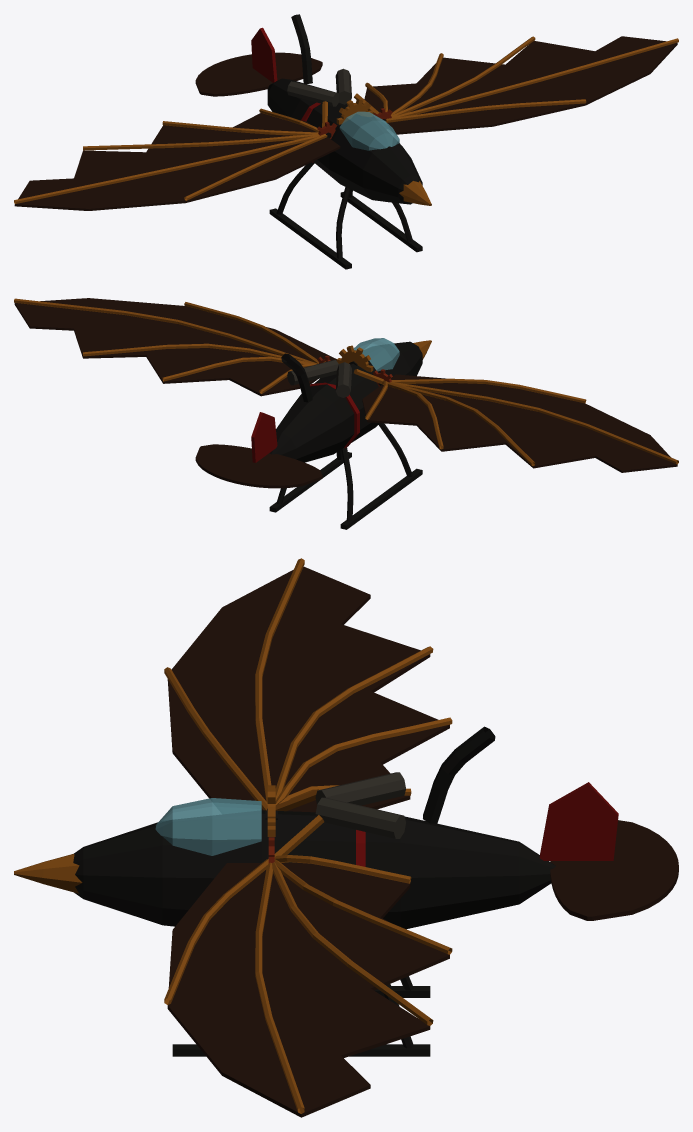
Rendered from Murcielago.obj.
The picture shows the model from 3 angles, top to bottom: view 1: azimuth 30°, elevation 25°; view 2: azimuth 150°, elevation 25°; view 3: azimuth 270°, elevation 25°; orthographic projection. The views are drawn at different scales.
Parts seen in each view (by area): view 1: Ala_I, Cuerpo, Ala_D; view 2: Ala_I, Cuerpo, Ala_D; view 3: Cuerpo, Ala_D, Ala_I.
Part boxes in pixels (left/top/right/bottom): Ala_I: left=14, top=108, right=340, bottom=210; Cuerpo: left=195, top=14, right=431, bottom=269; Ala_D: left=364, top=36, right=678, bottom=134; Ala_I: left=362, top=369, right=678, bottom=472; Cuerpo: left=195, top=338, right=431, bottom=529; Ala_D: left=14, top=298, right=336, bottom=396; Cuerpo: left=14, top=726, right=678, bottom=1056; Ala_D: left=164, top=837, right=452, bottom=1117; Ala_I: left=164, top=558, right=452, bottom=812.
Bounding box in the file's own units: 13.11 × 3.35 × 6.71.
